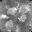people: (19, 3, 31, 14), (6, 5, 17, 15), (5, 20, 16, 29), (17, 14, 27, 22), (1, 14, 10, 20)
